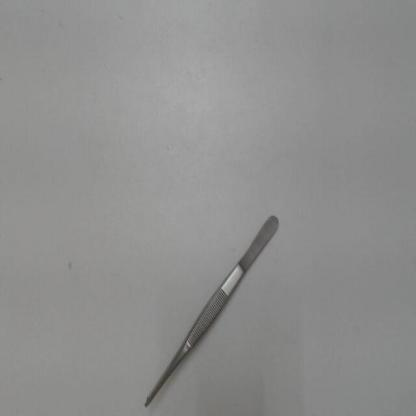Gillies Toothed Dissector: (137, 210, 296, 413)
